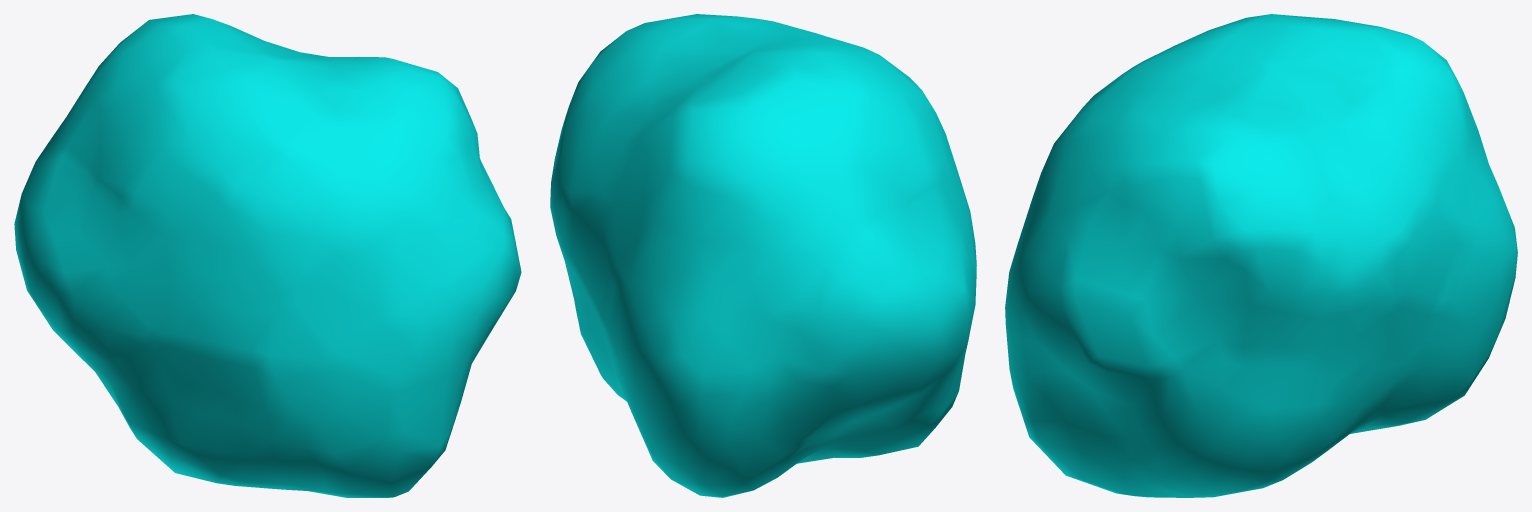
Rendered from RAP1.fbx.
3 renders of one model, left to right at view 1: azimuth 30°, elevation 25°; view 2: azimuth 150°, elevation 25°; view 3: azimuth 270°, elevation 25°, orthographic. The views are drawn at different scales.
Parts seen in each view (by area): view 1: chain_A_surface; view 2: chain_A_surface; view 3: chain_A_surface.
Part boxes in pixels (bbox=[...]): chain_A_surface: bbox=[14, 14, 521, 497]; chain_A_surface: bbox=[550, 14, 976, 497]; chain_A_surface: bbox=[1005, 14, 1517, 497].
Size of the model in its own units: 41.61 by 40.95 by 45.13.
